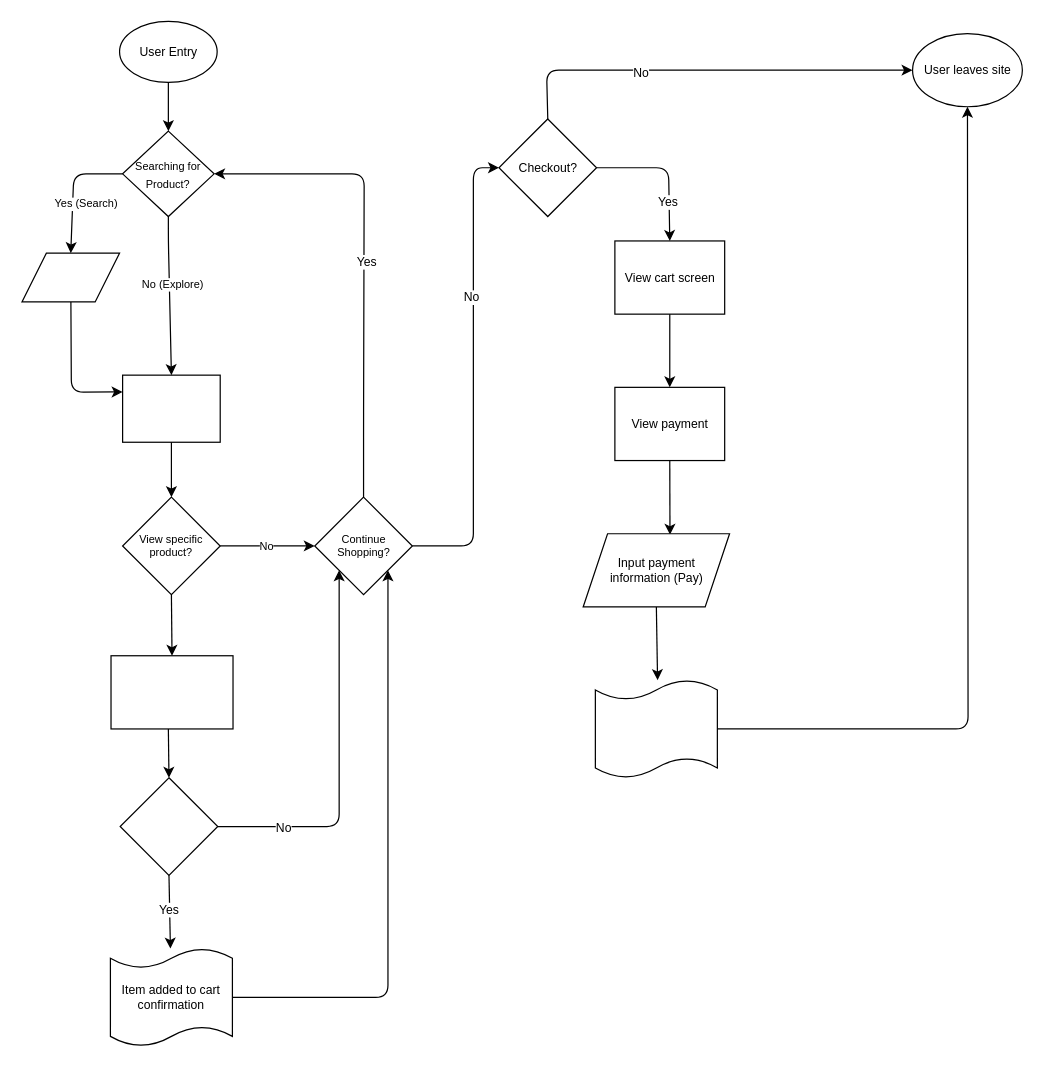
Image size: 1043x1068. Some labels were removed from this diagram. Each missing label, with the centre of its shape:
"Add item to cart?" goes at [168,826].
"Order confirmation screen (email also sent in background)" goes at [655,728].
"Product webpage opens" goes at [171,692].
"Search Input" goes at [70,277].
"User looks over products" goes at [170,408].
